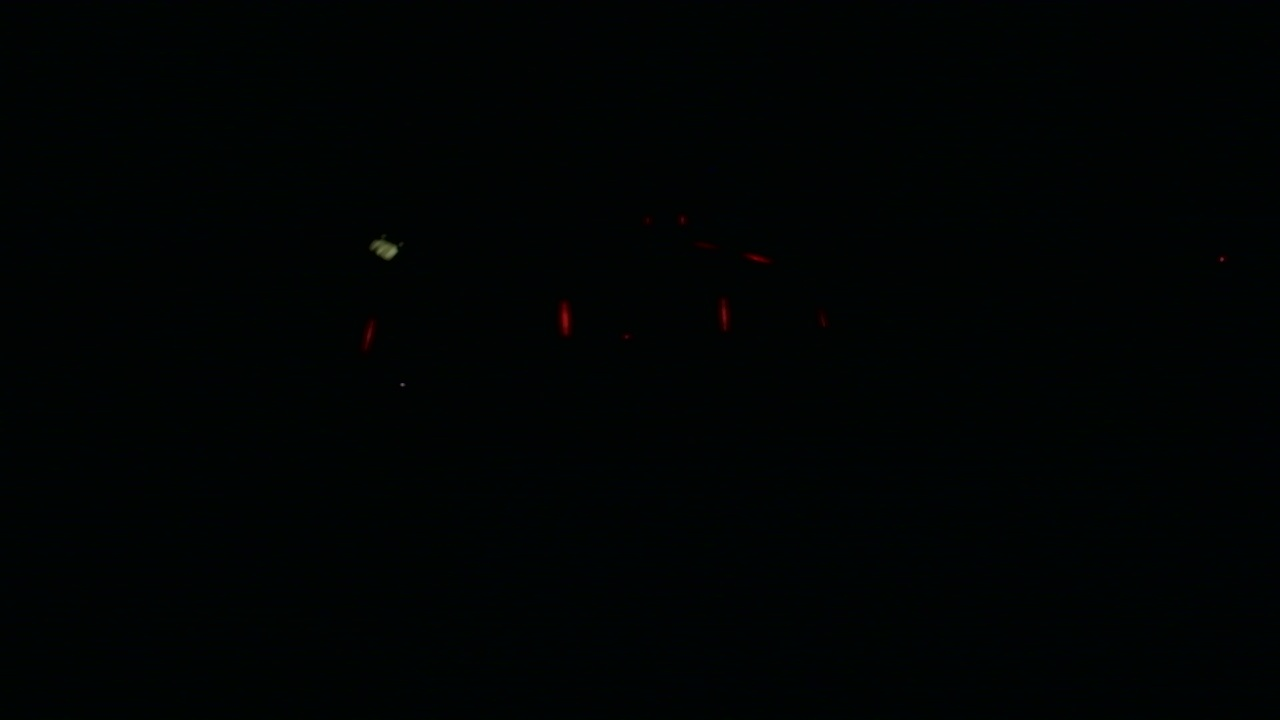lamp: (355, 296, 373, 348), (560, 300, 573, 334), (719, 298, 729, 333)
notpair2: (356, 297, 570, 349)
pair2: (559, 302, 731, 335)
